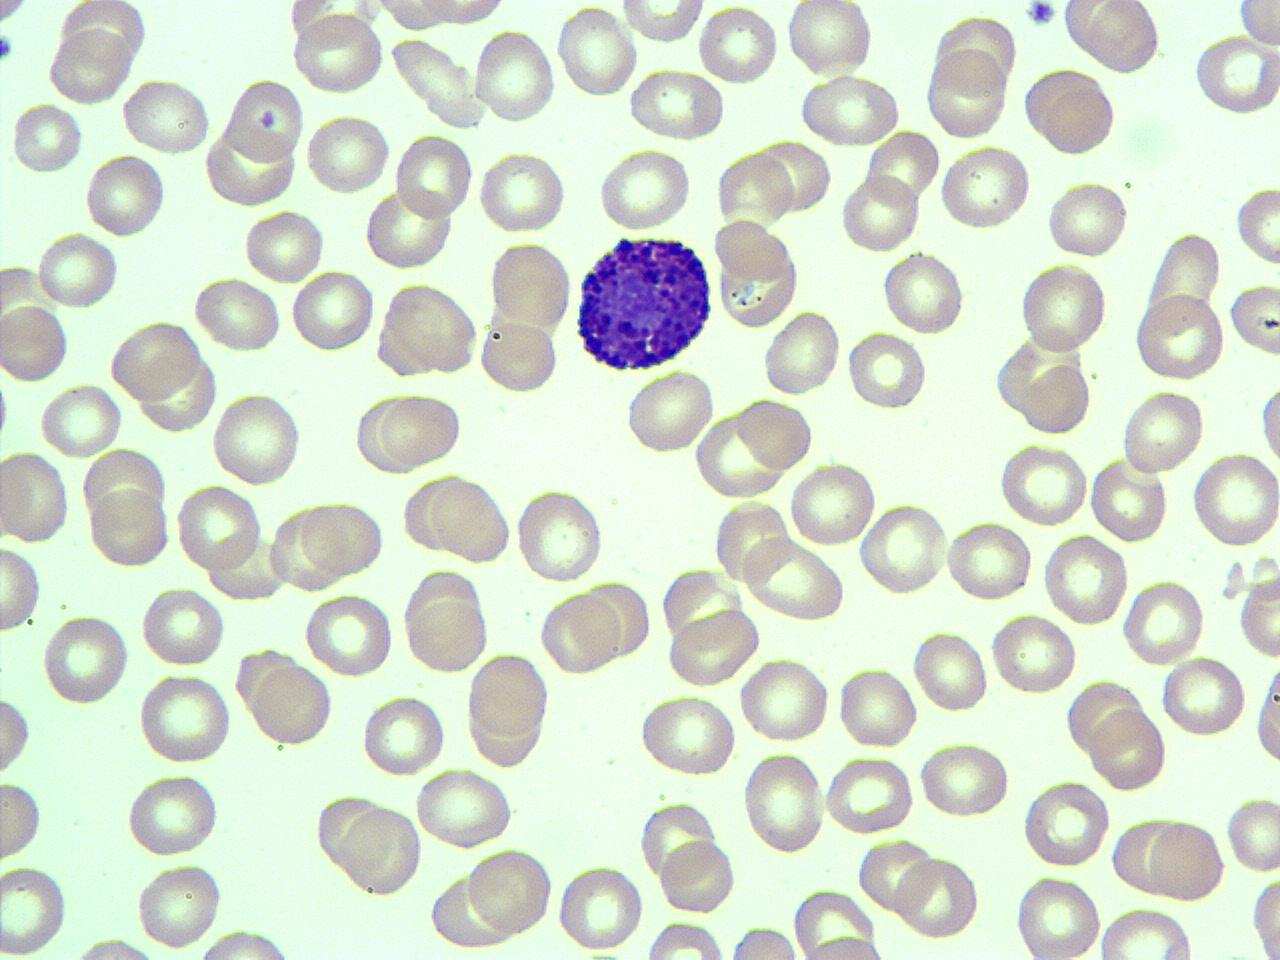Platelets: (1025, 1, 1059, 28), (0, 31, 16, 63)
RBC: (387, 32, 490, 129), (377, 280, 481, 376), (210, 389, 306, 487), (740, 748, 827, 856), (137, 671, 234, 767), (857, 498, 950, 598), (514, 484, 606, 584), (1017, 259, 1109, 359), (1189, 449, 1280, 550), (743, 534, 846, 622), (1134, 289, 1228, 383), (40, 610, 130, 708), (623, 364, 718, 456), (413, 766, 517, 850), (638, 692, 737, 780), (786, 458, 880, 550), (124, 770, 222, 858), (466, 648, 552, 748), (466, 844, 556, 939), (556, 859, 645, 955), (1042, 531, 1130, 628), (938, 143, 1035, 231), (473, 25, 557, 126), (134, 858, 224, 952), (554, 3, 640, 101), (596, 146, 694, 232), (996, 442, 1092, 529), (289, 10, 386, 96), (340, 801, 425, 899), (1143, 227, 1223, 331), (1011, 871, 1105, 959), (738, 656, 832, 744), (928, 10, 1019, 100), (175, 481, 263, 574), (476, 148, 568, 236), (664, 604, 760, 688), (796, 72, 903, 147), (1119, 386, 1207, 477), (924, 47, 1010, 140), (109, 317, 204, 401), (1022, 777, 1110, 867), (362, 186, 454, 272), (249, 658, 335, 750), (880, 248, 968, 337), (304, 591, 394, 678), (638, 795, 722, 888), (430, 473, 514, 566), (894, 851, 980, 941), (1120, 577, 1206, 667), (289, 266, 375, 356), (488, 240, 572, 332), (1088, 452, 1170, 546), (83, 150, 168, 240), (822, 754, 915, 836), (784, 0, 878, 81), (945, 518, 1035, 602), (988, 612, 1078, 696), (392, 131, 474, 223), (761, 307, 843, 399), (121, 75, 214, 156), (918, 739, 1012, 819), (627, 66, 727, 141), (360, 693, 447, 779), (304, 112, 393, 196), (1191, 32, 1279, 116), (224, 74, 306, 164), (910, 627, 992, 716), (191, 275, 282, 355), (140, 584, 226, 668), (539, 588, 621, 676), (836, 663, 918, 751), (0, 447, 71, 548), (1045, 177, 1131, 260), (712, 497, 790, 588), (0, 860, 72, 958), (845, 327, 928, 412), (1160, 654, 1246, 736), (38, 380, 125, 460), (88, 486, 171, 569), (404, 595, 490, 675), (1147, 817, 1227, 903), (854, 832, 937, 914), (34, 229, 120, 308), (45, 27, 132, 105), (299, 498, 383, 578), (1089, 706, 1167, 792), (241, 208, 327, 286), (838, 174, 920, 255), (697, 4, 780, 84), (379, 389, 463, 468), (1110, 814, 1188, 897), (477, 318, 561, 395), (735, 394, 815, 473), (659, 834, 737, 915), (0, 298, 71, 386), (714, 148, 792, 228), (1080, 1, 1164, 75), (756, 136, 834, 214), (8, 99, 84, 176), (1094, 905, 1200, 959), (1045, 76, 1117, 155), (314, 791, 384, 870), (712, 216, 792, 284), (1022, 362, 1092, 436), (1225, 792, 1279, 874), (0, 542, 45, 636), (189, 926, 310, 960), (617, 0, 708, 45), (1227, 281, 1279, 359), (1236, 569, 1280, 660), (1234, 182, 1280, 269), (0, 776, 44, 864), (640, 920, 728, 960), (1254, 655, 1280, 773), (0, 690, 33, 780), (1248, 870, 1280, 958), (412, 0, 515, 27), (724, 924, 800, 960), (796, 932, 892, 960), (63, 936, 170, 960), (1232, 0, 1280, 53), (1255, 370, 1279, 475)
WBC: (569, 228, 719, 374)
